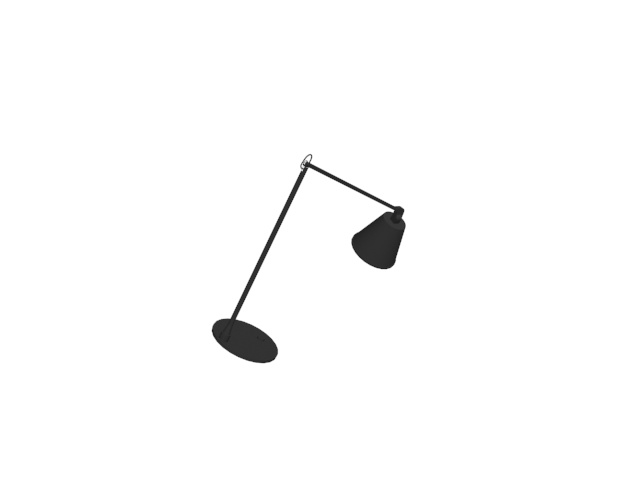desk_lamp: (209, 153, 408, 368)
